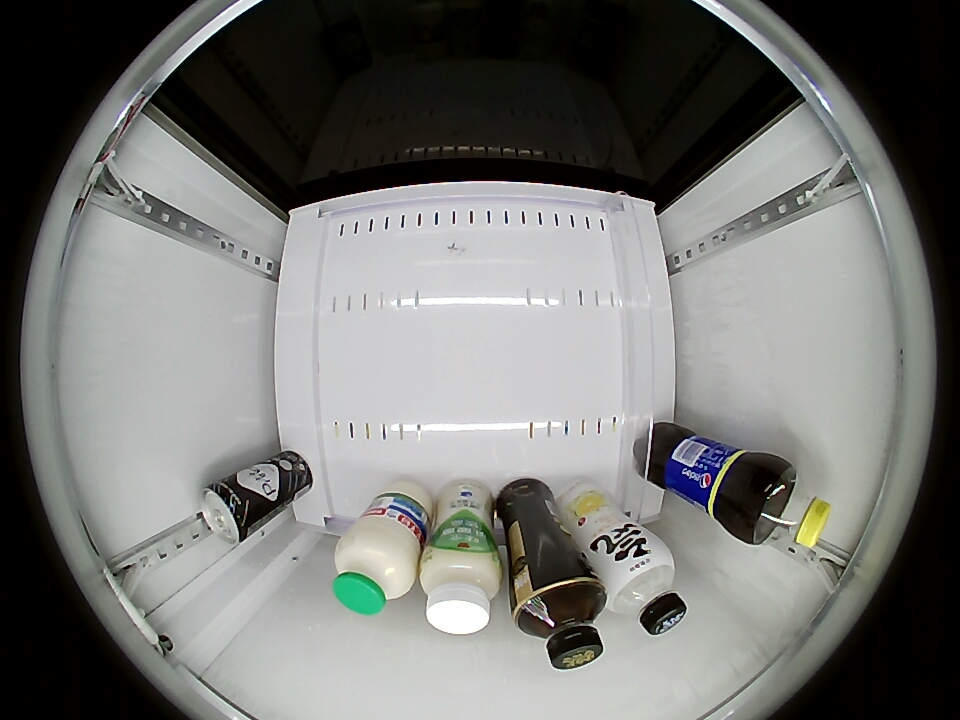baishikele: (745, 463, 833, 550)
liziyuan: (333, 517, 420, 616)
qingdaowangzi-1: (199, 478, 256, 544)
rancha-1: (513, 575, 606, 671)
yousuanru: (420, 543, 502, 635)
yuanqishui: (598, 539, 688, 635)
